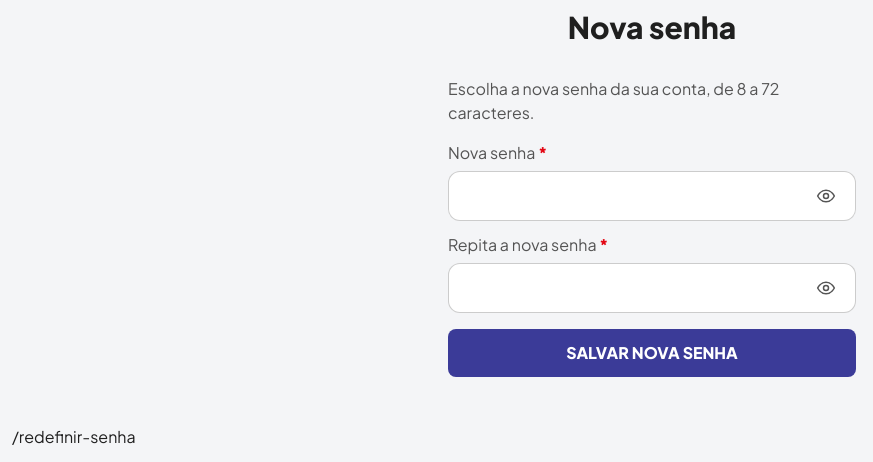
Test: Redefinição de senha por link › senha válida: envia o token e a nova senha e mostra o sucesso (sem login automático)
Type "NovaSenha2026" into the password field labelled "Nova senha *".
click(652, 196); type("NovaSenha2026")  # box [448,171,856,221]
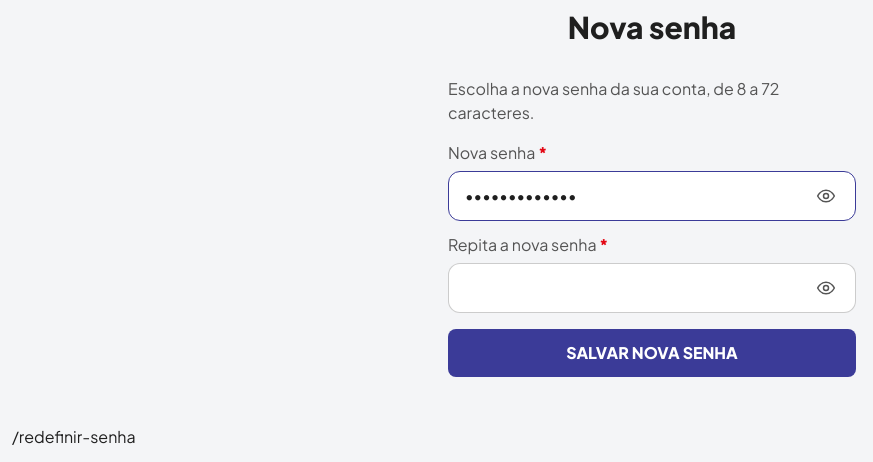
Type "NovaSenha2026" into the password field labelled "Repita a nova senha *".
click(652, 288); type("NovaSenha2026")  # box [448,263,856,313]
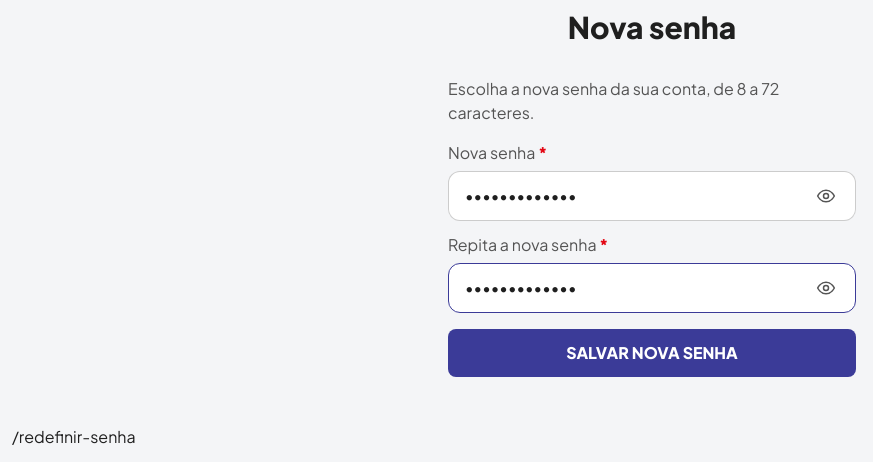
Click the button "Salvar nova senha".
click(652, 353)  # box [448,329,856,377]
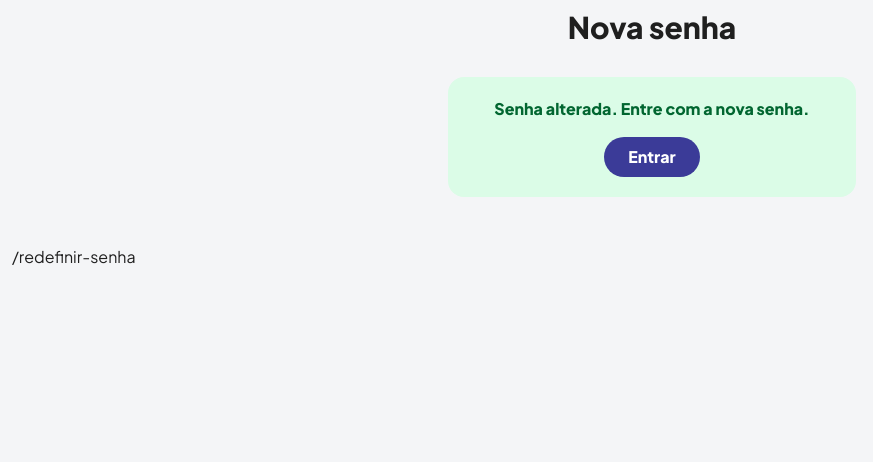
Check: the text "Senha alterada. Entre com a nova senha." is shown, box [468,97,836,121]
